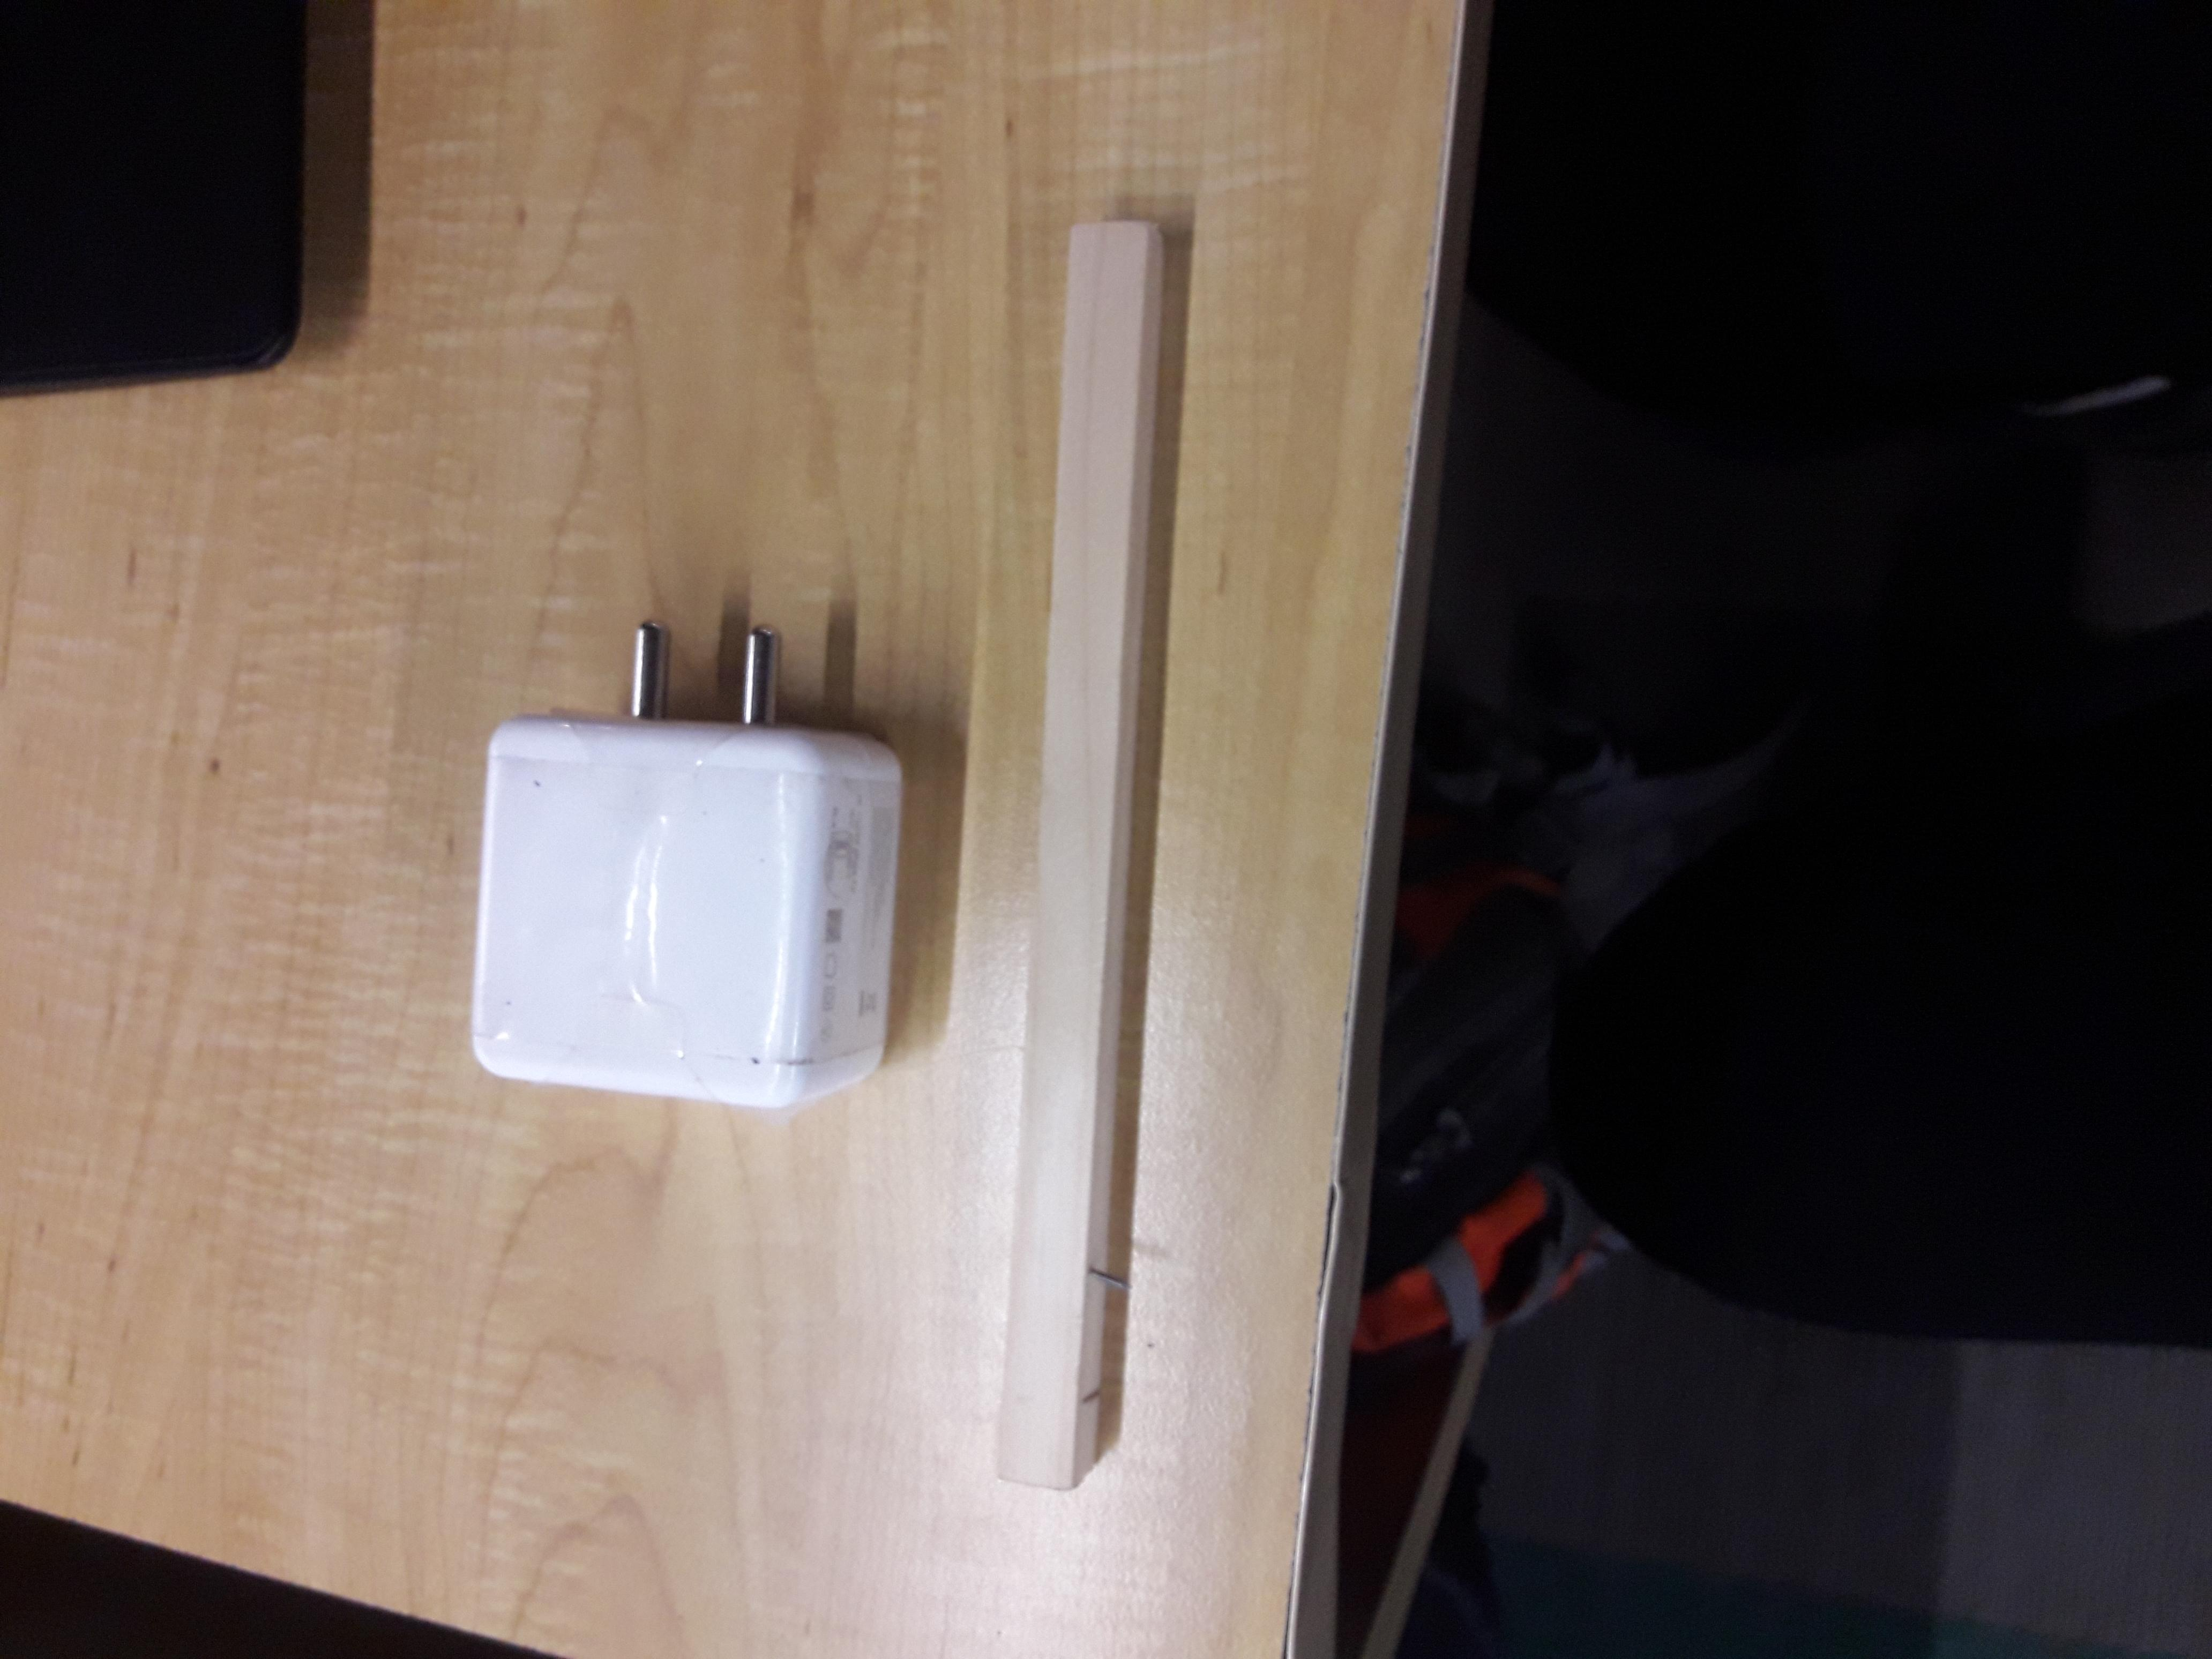object: (465, 723, 819, 1110)
reference: (996, 223, 1148, 1483)
